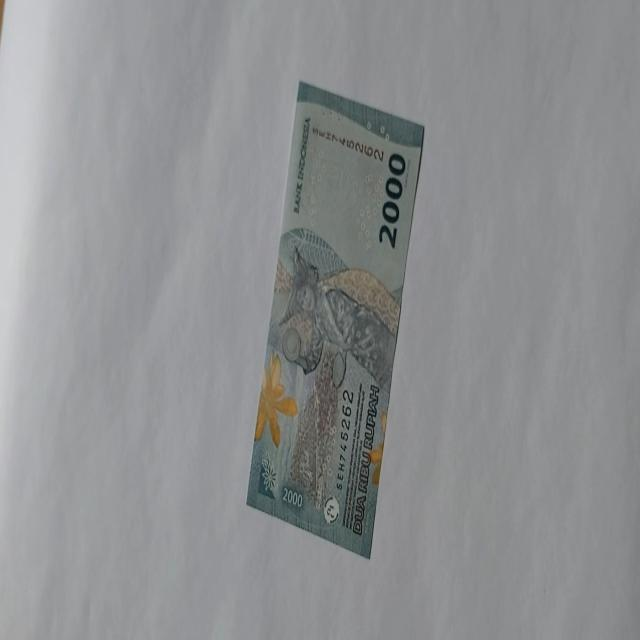dua ribu rupiah: (245, 80, 425, 558), (267, 227, 399, 514), (274, 240, 398, 388)
